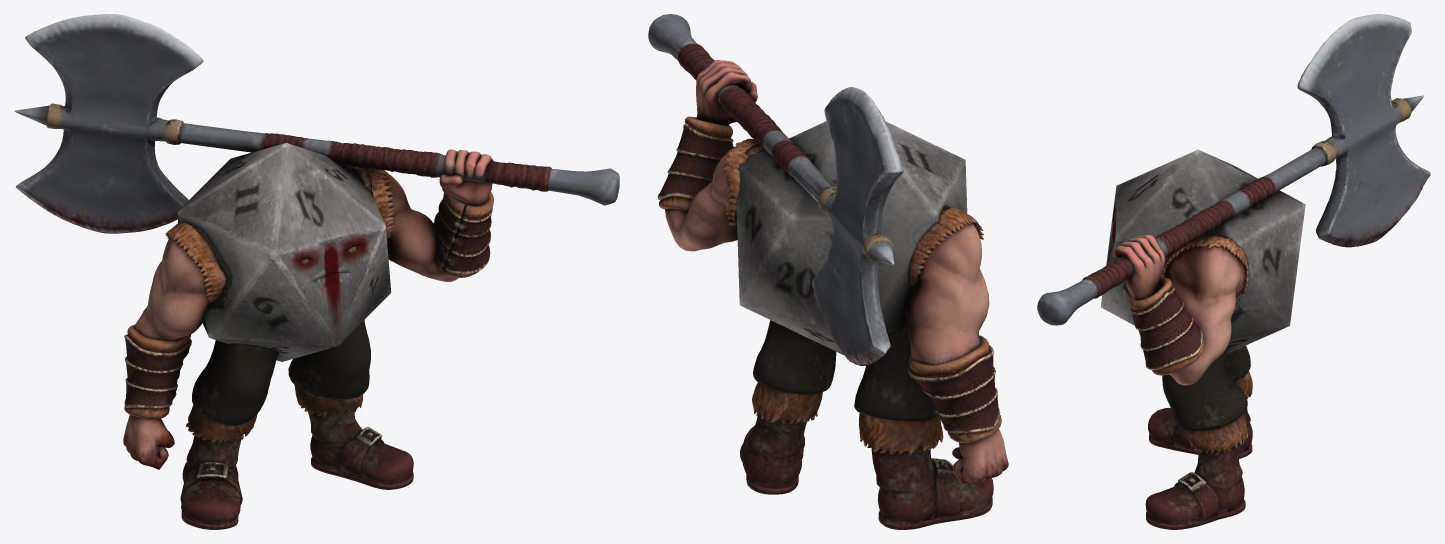
File: MZ4250 - D20 Barbarian.glb
3 views of the same model, side by side, from view 1: azimuth 30°, elevation 25°; view 2: azimuth 150°, elevation 25°; view 3: azimuth 270°, elevation 25° (orthographic). The views are drawn at different scales.
Parts seen in each view (by area): view 1: Body.002; view 2: Body.002; view 3: Body.002.
Part boxes in pixels (x1,y1,x2,y2): Body.002: [14, 14, 619, 529]; Body.002: [648, 14, 1008, 529]; Body.002: [1037, 14, 1430, 529].
Size of the model in its own units: 142 by 144 by 124.
Materials: 1 (1 with a texture image).
